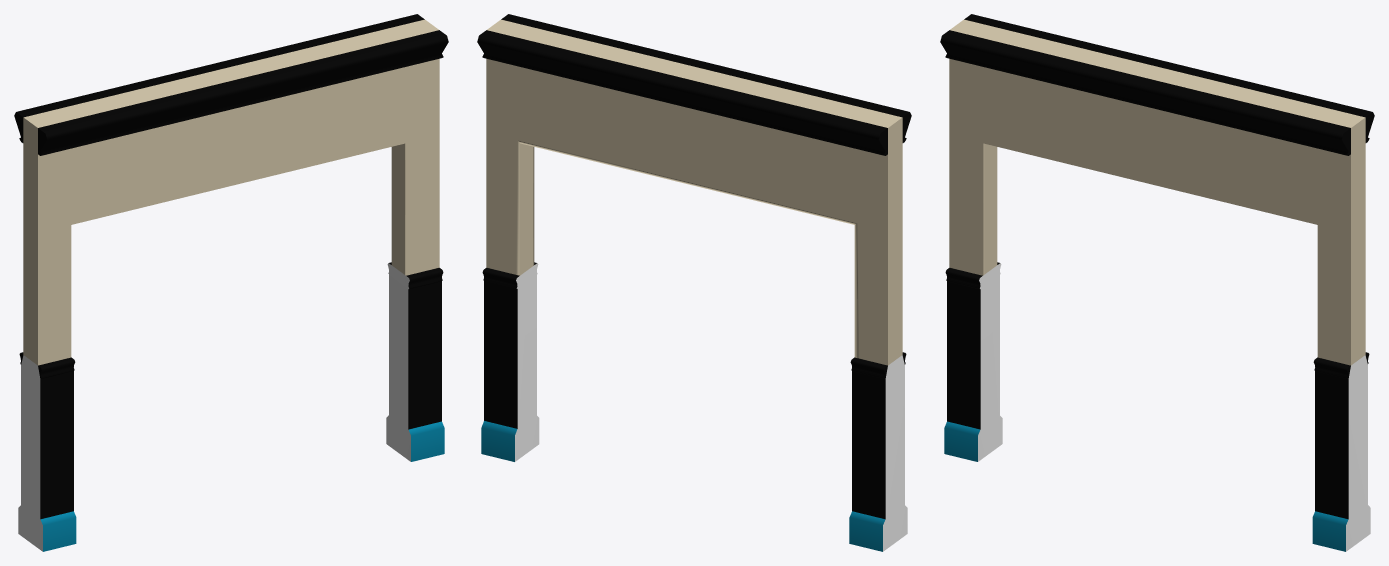
Rendered from Classic_WallDoubleDoorFrame_01.fbx.
3 views of the same model, side by side, from view 1: azimuth 30°, elevation 25°; view 2: azimuth 150°, elevation 25°; view 3: azimuth 330°, elevation 25° (orthographic).
Visible parts, largest first — view 1: Classic_WallDoubleDoorFrame_01_LOD00; view 2: Classic_WallDoubleDoorFrame_01_LOD00; view 3: Classic_WallDoubleDoorFrame_01_LOD00.
Boxes of the visible parts, left/top/right/bottom form: Classic_WallDoubleDoorFrame_01_LOD00: left=14, top=14, right=448, bottom=551; Classic_WallDoubleDoorFrame_01_LOD00: left=477, top=14, right=911, bottom=551; Classic_WallDoubleDoorFrame_01_LOD00: left=940, top=14, right=1374, bottom=551.
Size of what is drawn, in the model's own units: 300 by 300 by 42.83.
